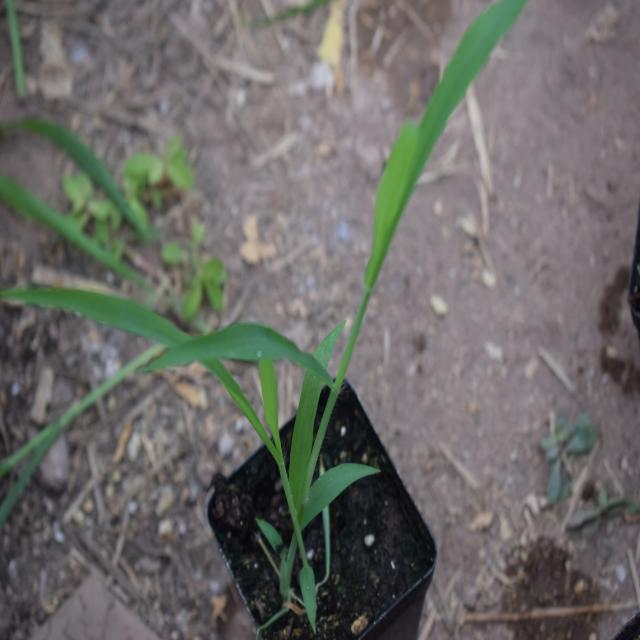crabgrass: (120, 78, 446, 544)
